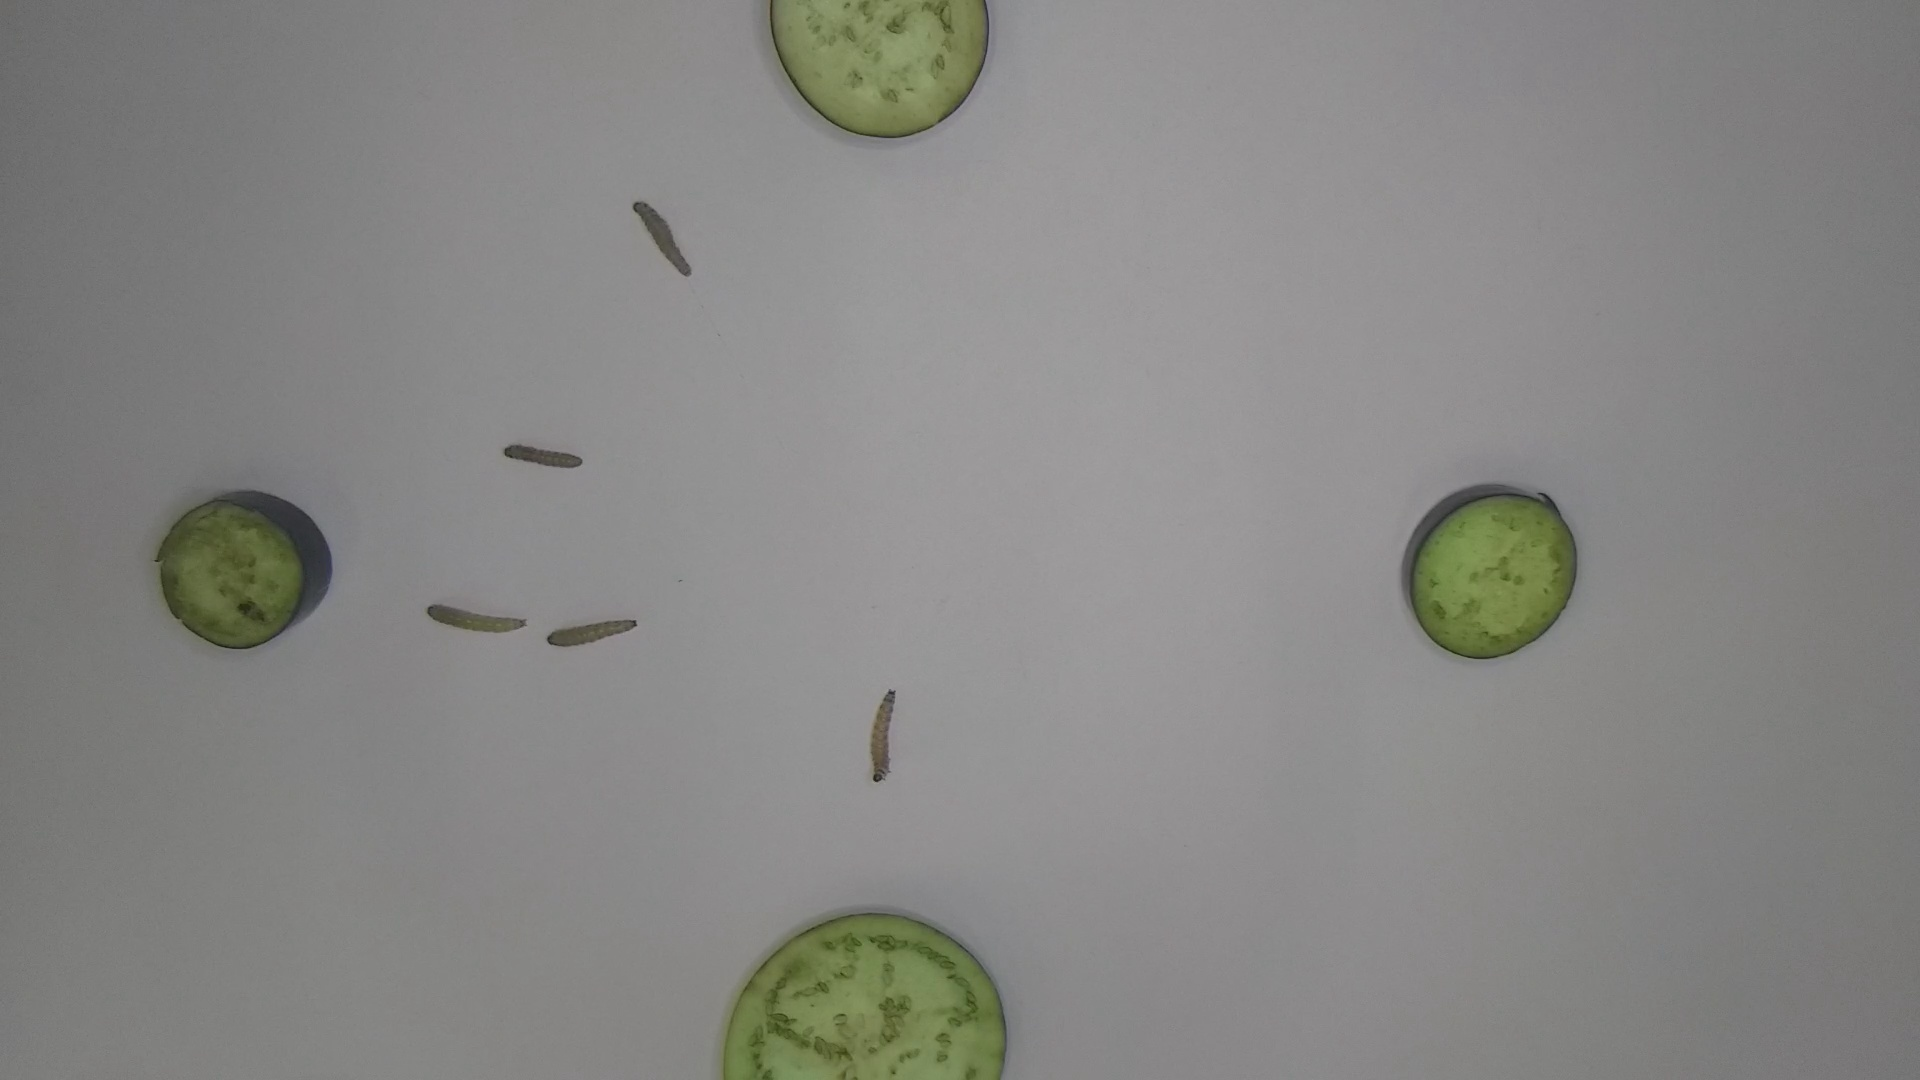efsb: (621, 194, 696, 281), (862, 676, 909, 791), (423, 599, 529, 640), (498, 434, 585, 476), (545, 618, 640, 647)
eggplant: (711, 905, 1019, 1080), (1393, 473, 1588, 665), (754, 1, 1001, 146), (146, 483, 339, 654)
